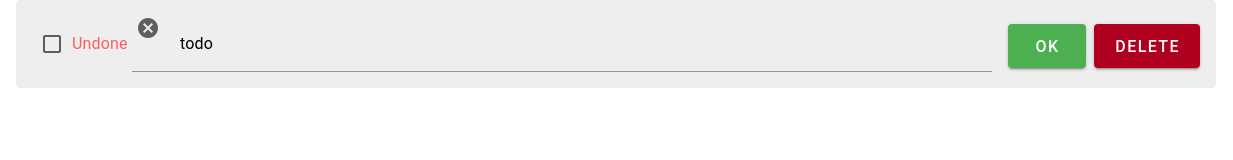
ToDoItem.vue › When clicking on OK button › textarea is disabled
The width and height of the screenshot is (1233, 160).
Click the button "OK": click(1047, 46) top-left (1008, 24), bottom-right (1086, 68)
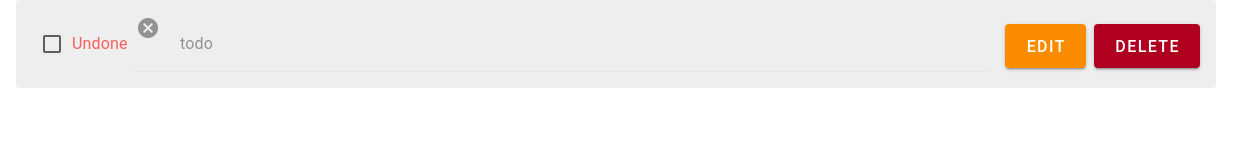
Expected: the text box is disabled, top-left (164, 16), bottom-right (977, 72)
